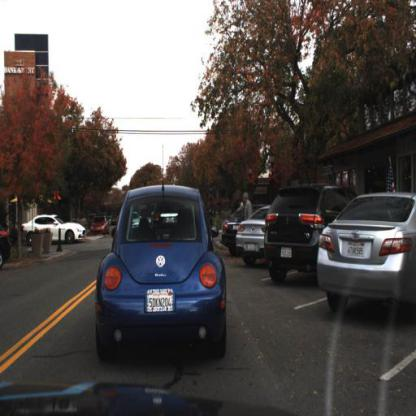car: (99, 181, 226, 353), (316, 191, 416, 317), (265, 184, 358, 285), (232, 199, 272, 265), (21, 210, 87, 247), (221, 199, 264, 255), (1, 217, 12, 266), (90, 211, 110, 235)
pedestrian: (240, 191, 254, 261)
